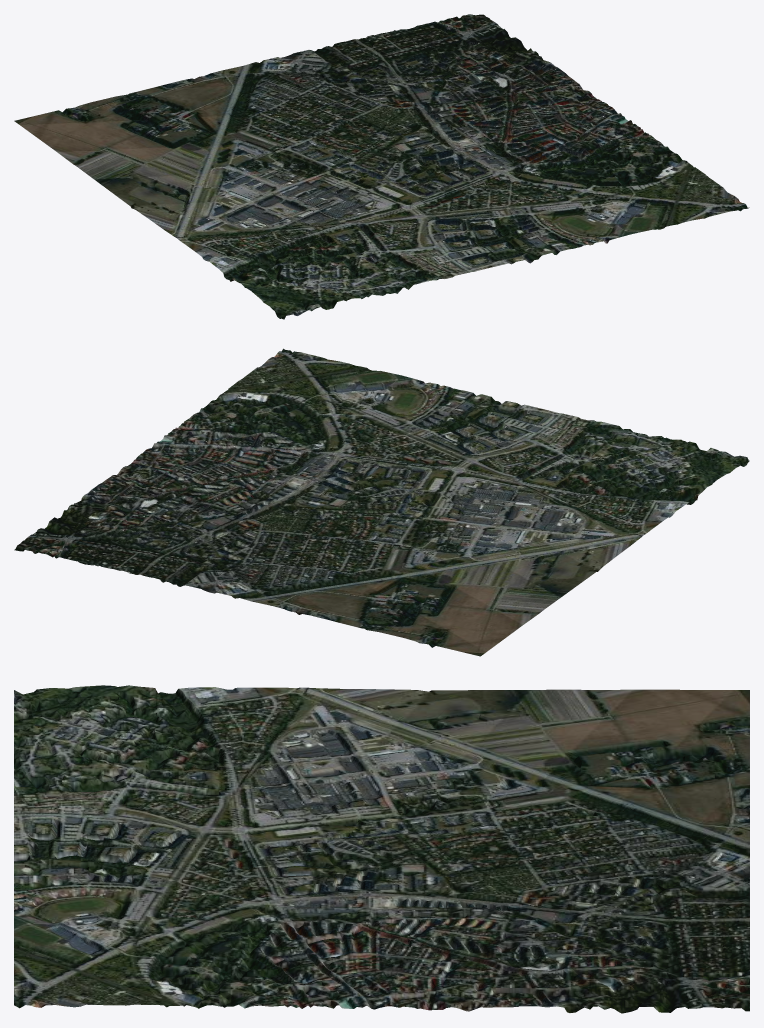
File: map_10_255_431.dae
3 views of the same model, one above another, from view 1: azimuth 30°, elevation 25°; view 2: azimuth 150°, elevation 25°; view 3: azimuth 270°, elevation 25° (orthographic). The views are drawn at different scales.
Parts seen in each view (by area): view 1: Ter0; view 2: Ter0; view 3: Ter0.
Boxes of the visible parts, left/top/right/bottom form: Ter0: left=14, top=14, right=749, bottom=319; Ter0: left=14, top=348, right=749, bottom=656; Ter0: left=14, top=685, right=749, bottom=1013.
Size of the model in its own units: 2044 by 2044 by 58.05.
3 materials, 3 textured.
